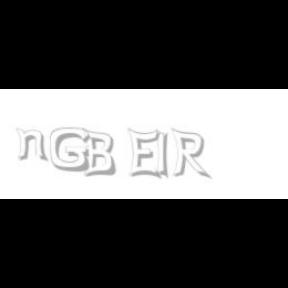B: (82, 128, 116, 178)
E: (128, 128, 160, 180)
G: (50, 128, 90, 172)
I: (156, 128, 170, 180)
R: (170, 128, 208, 180)
n: (15, 128, 49, 162)
